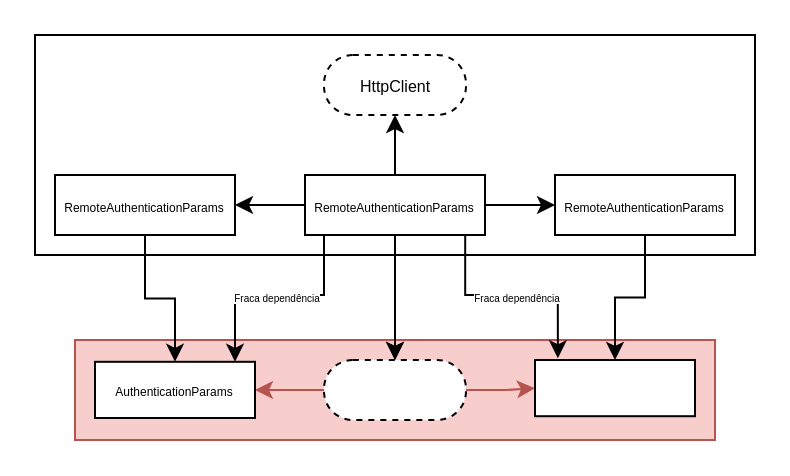
Some shapes in this 790 by 476 pixel diagram are drawn without their labels. Each missing label, with the centre of its shape:
"AccountEntity" belongs at pixel 614 387.
"Authentication" belongs at pixel 394 389.
